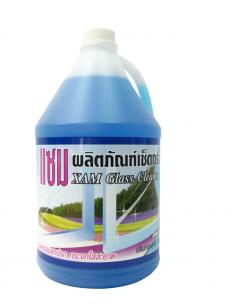Cleaning_solution: (31, 23, 162, 293)
